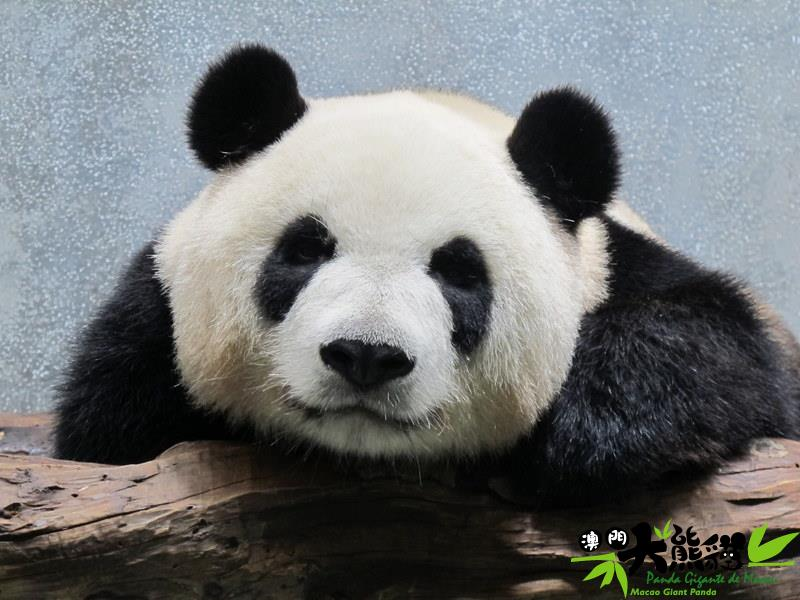panda: (34, 50, 800, 525)
